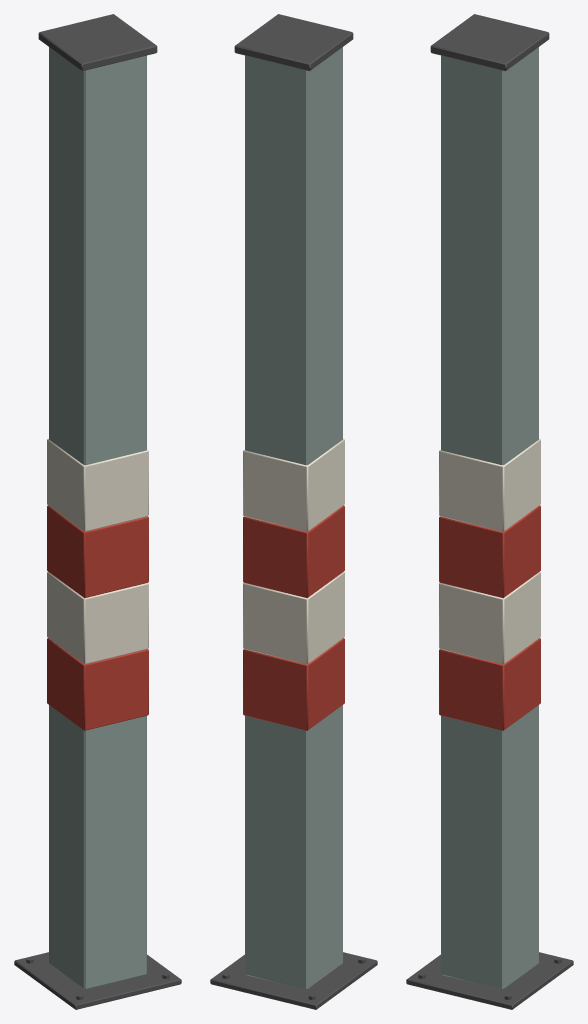
File: gate_post.glb
The picture shows the model from 3 angles, left to right: view 1: azimuth 30°, elevation 25°; view 2: azimuth 150°, elevation 25°; view 3: azimuth 330°, elevation 25°; orthographic projection.
Parts seen in each view (by area): view 1: static; view 2: static; view 3: static.
Boxes of the visible parts, bbox=[...] form: static: bbox=[14, 14, 181, 1009]; static: bbox=[210, 14, 377, 1009]; static: bbox=[406, 14, 573, 1009].
Size of the model in its own units: 0.42 by 3.53 by 0.42.
